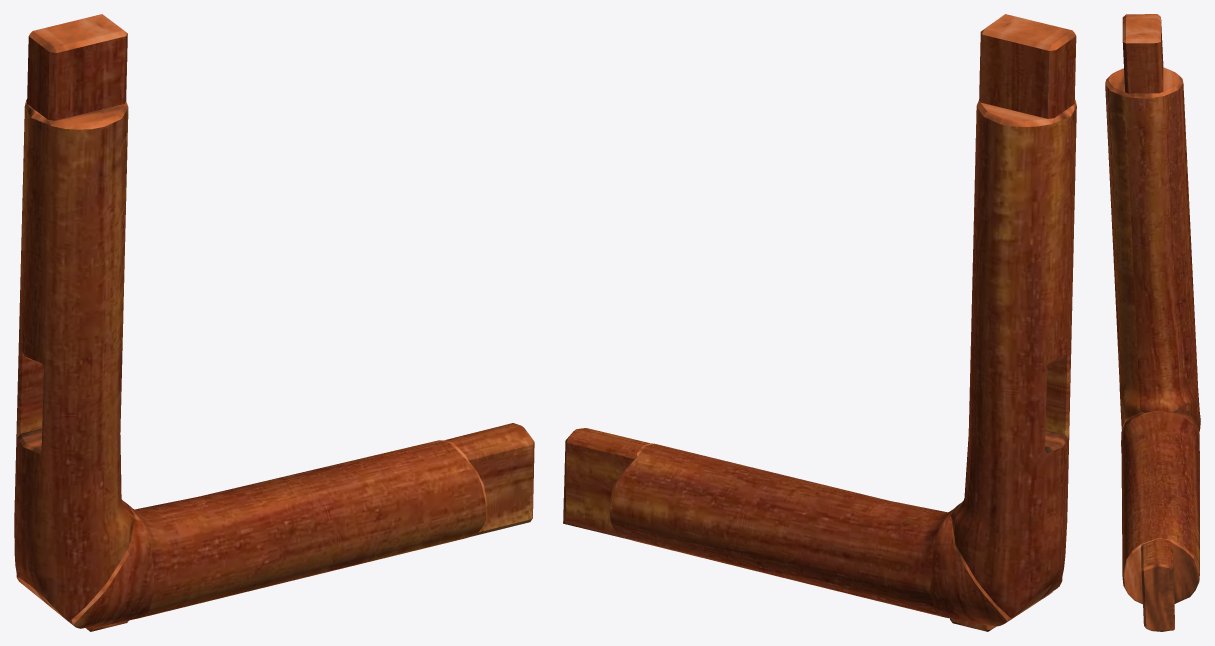
The model's file is ytsy_J_H_shugan_019.FBX.
3 renders of one model, left to right at view 1: azimuth 30°, elevation 25°; view 2: azimuth 150°, elevation 25°; view 3: azimuth 270°, elevation 25°, orthographic. The views are drawn at different scales.
Parts seen in each view (by area): view 1: ytsy_J_shugan_019; view 2: ytsy_J_shugan_019; view 3: ytsy_J_shugan_019.
Part boxes in pixels (box(x1,y1,x2,y2)): ytsy_J_shugan_019: box(14, 14, 534, 631); ytsy_J_shugan_019: box(563, 14, 1076, 631); ytsy_J_shugan_019: box(1105, 14, 1200, 631).
Size of the model in its own units: 10.79 by 12.5 by 2.44.
